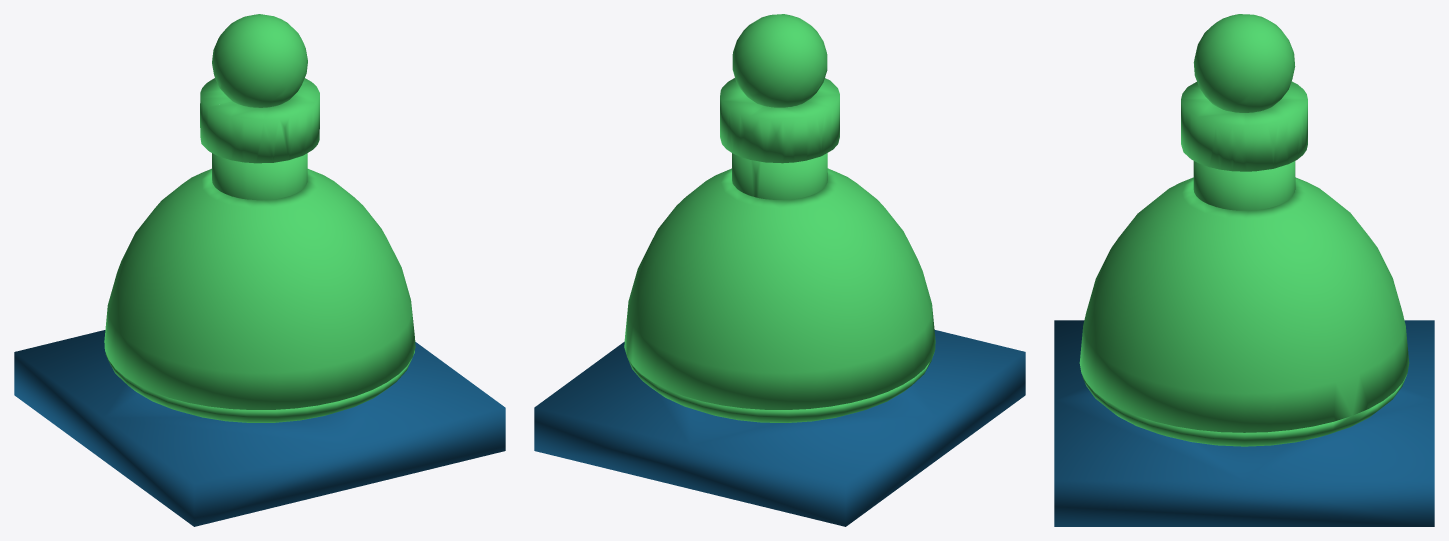
File: w_acid.glb
3 renders of one model, left to right at view 1: azimuth 30°, elevation 25°; view 2: azimuth 150°, elevation 25°; view 3: azimuth 270°, elevation 25°, orthographic. The views are drawn at different scales.
Parts seen in each view (by area): view 1: figura, basetta; view 2: figura, basetta; view 3: figura, basetta.
Part boxes in pixels (x1=…): figura: x1=104, y1=14, x2=415, y2=422; basetta: x1=14, y1=330, x2=505, y2=526; figura: x1=624, y1=14, x2=935, y2=422; basetta: x1=534, y1=330, x2=1025, y2=526; figura: x1=1079, y1=14, x2=1409, y2=446; basetta: x1=1054, y1=320, x2=1434, y2=526.
Size of the model in its own units: 0.015 by 0.0186 by 0.015.
